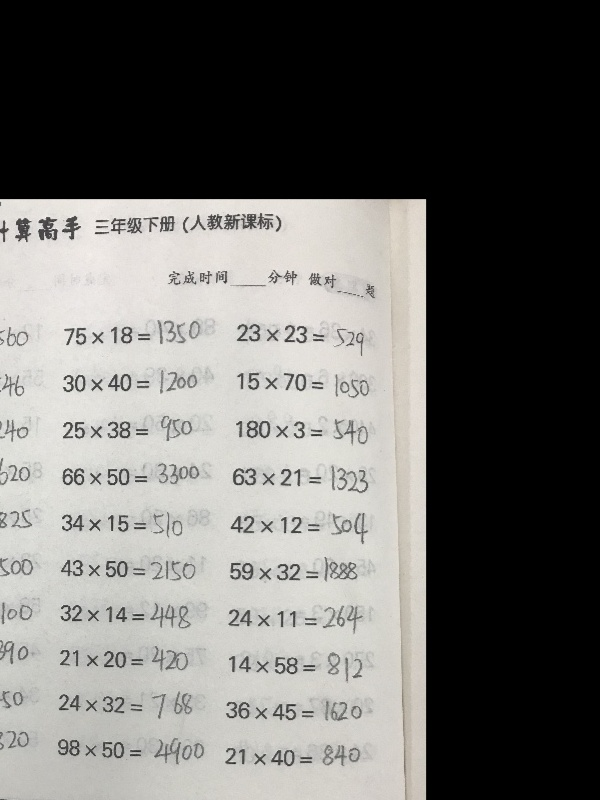equation: (227, 509, 372, 548), (54, 734, 208, 768), (225, 602, 367, 637), (225, 645, 366, 680), (229, 459, 372, 492), (60, 412, 196, 445), (233, 319, 368, 352), (233, 416, 372, 448), (60, 317, 203, 348), (57, 597, 195, 629), (233, 366, 373, 397), (57, 643, 192, 675), (227, 553, 362, 585), (60, 367, 201, 397), (59, 460, 203, 489), (222, 741, 364, 770), (58, 509, 187, 540), (223, 698, 366, 725), (57, 556, 199, 583), (55, 688, 191, 716), (0, 502, 36, 535), (0, 634, 37, 666), (0, 551, 37, 582), (0, 597, 36, 626), (0, 457, 33, 488), (0, 727, 33, 757), (0, 417, 32, 446), (0, 325, 32, 352), (0, 371, 29, 400), (0, 682, 26, 710)
